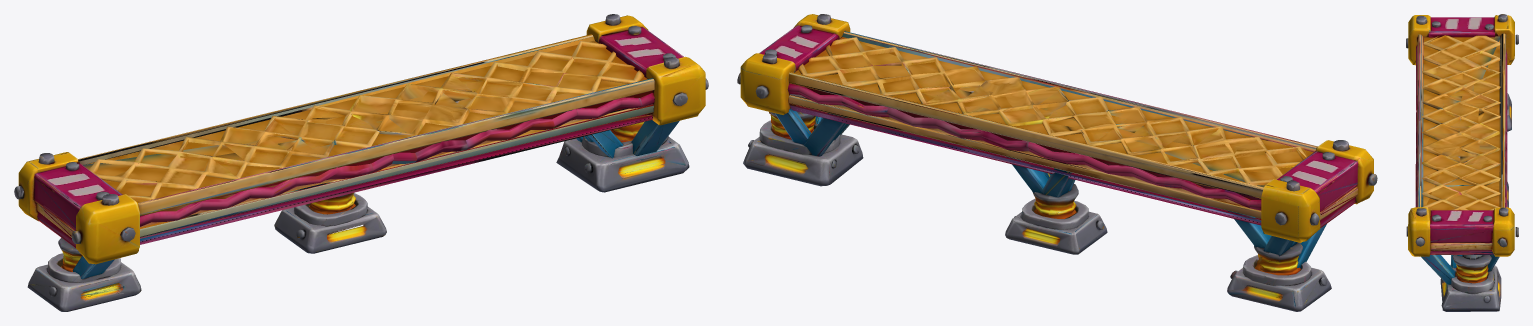
The model's file is wafer_bridge.glb.
3 views of the same model, side by side, from view 1: azimuth 30°, elevation 25°; view 2: azimuth 150°, elevation 25°; view 3: azimuth 270°, elevation 25° (orthographic). The views are drawn at different scales.
Size of what is drawn, in the model's own units: 4.88 by 0.9997 by 1.08.
Materials: 1 (1 with a texture image).
